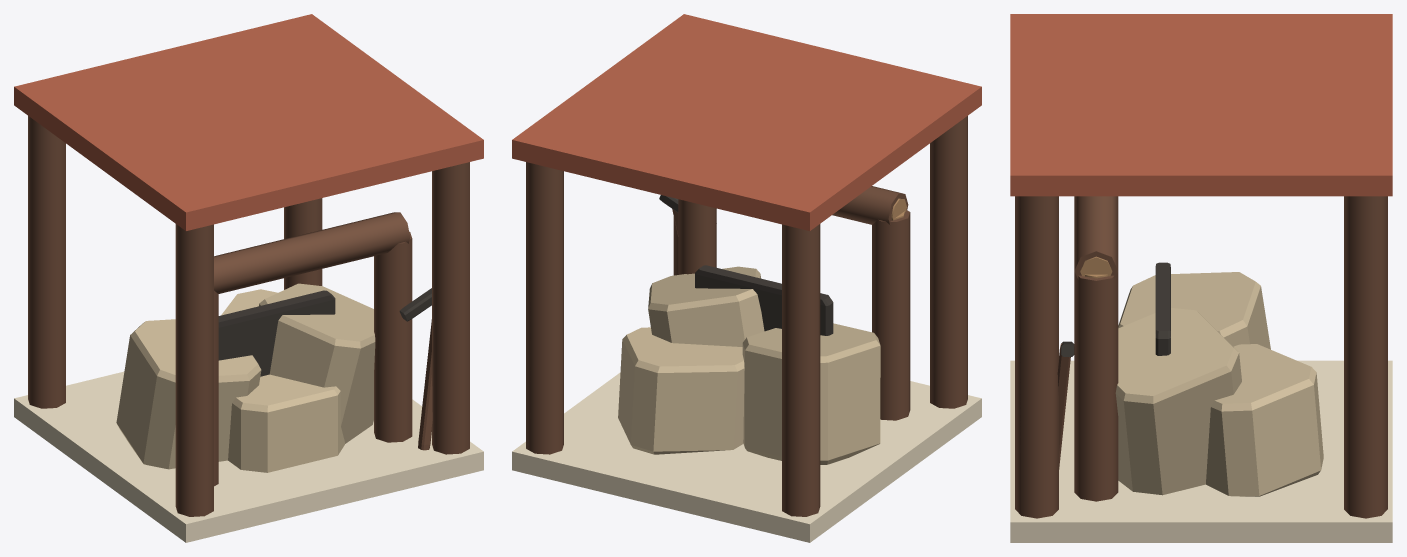
Rendered from mine_camp.glb.
3 renders of one model, left to right at view 1: azimuth 30°, elevation 25°; view 2: azimuth 150°, elevation 25°; view 3: azimuth 270°, elevation 25°, orthographic. The views are drawn at different scales.
Parts seen in each view (by area): view 1: Floor, Cap2, Cap4, Cap, Cap3, Post2, Post4, Post, Limestone4, Limestone3, Limestone, PitLintel (+6 smaller); view 2: Floor, Cap, Cap3, Cap2, Limestone2, Cap4, Limestone3, Post, Post3, Post2, PitFrame, Limestone4 (+3 smaller); view 3: Floor, Cap3, Cap4, Limestone4, Cap, Cap2, Post3, Post4, Limestone2, PitFrame2, Limestone3, PitLintel (+2 smaller).
Part boxes in pixels (x1,y1,x2,y2): Floor: (14, 371, 483, 542); Cap2: (100, 113, 334, 230); Cap4: (249, 77, 483, 194); Cap: (14, 50, 248, 167); Cap3: (163, 14, 397, 112); Post2: (175, 224, 213, 516); Post4: (432, 162, 469, 454); Post: (28, 116, 65, 408); Limestone4: (259, 283, 375, 443); Limestone3: (116, 319, 261, 469); Limestone: (228, 374, 344, 472); PitLintel: (214, 212, 410, 293); Floor: (512, 372, 981, 542); Cap: (661, 113, 895, 230); Cap3: (512, 77, 746, 194); Cap2: (747, 50, 981, 167); Limestone2: (618, 327, 744, 454); Cap4: (598, 14, 832, 112); Limestone3: (742, 323, 880, 464); Post: (782, 224, 820, 516); Post3: (526, 162, 563, 454); Post2: (930, 116, 967, 408); PitFrame: (872, 210, 910, 420); Limestone4: (648, 266, 764, 346); Floor: (1010, 360, 1392, 542); Cap3: (1201, 94, 1392, 196); Cap4: (1010, 94, 1201, 196); Limestone4: (1115, 308, 1241, 495); Cap: (1201, 14, 1392, 94); Cap2: (1010, 14, 1201, 94); Post3: (1344, 196, 1387, 518); Post4: (1015, 196, 1058, 518); Limestone2: (1206, 344, 1323, 496); PitFrame2: (1074, 272, 1118, 501); Limestone3: (1118, 272, 1270, 349); PitLintel: (1074, 196, 1118, 279).
Bounding box in the file's own units: 2 × 2.12 × 2.
